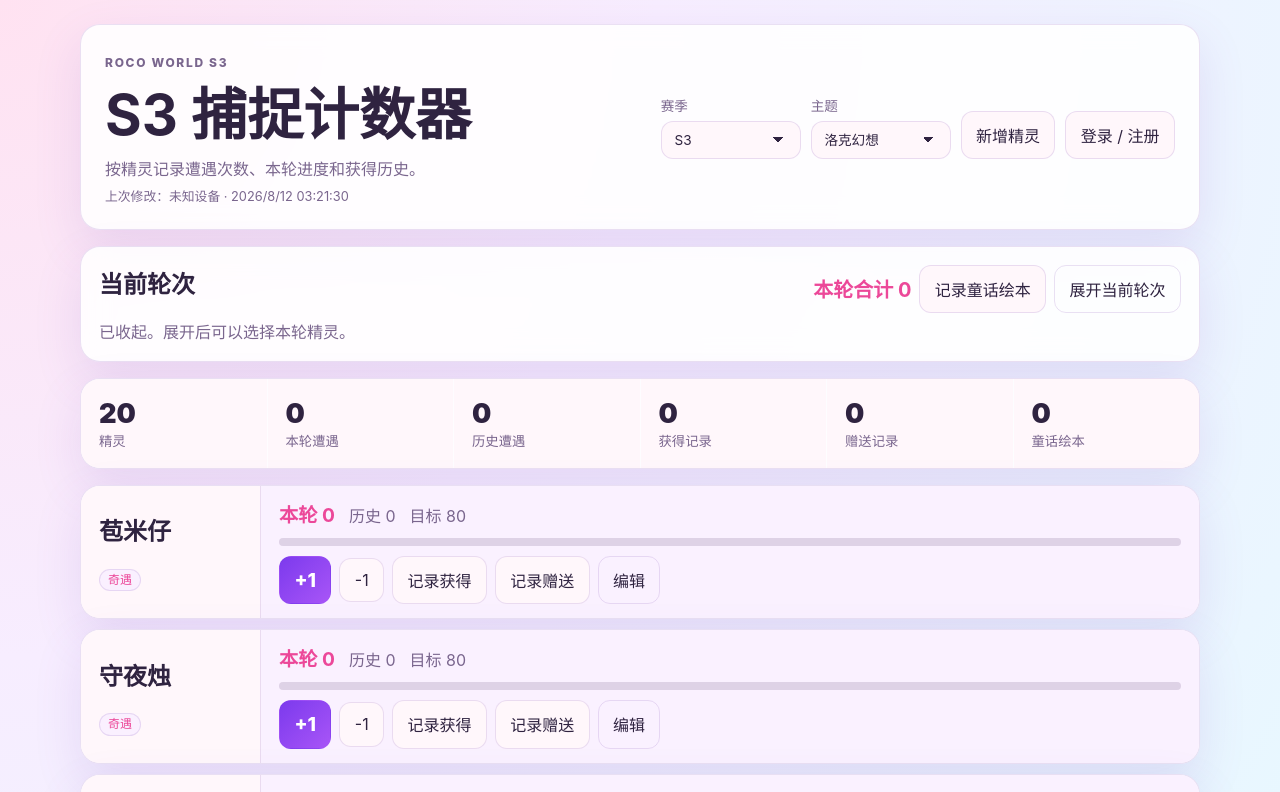
Test: App › switches seasons without saving old-season data into the new key
The width and height of the screenshot is (1280, 792).
Click the button "新增精灵".
click(1008, 135)  # box 961,111 -> 1055,159
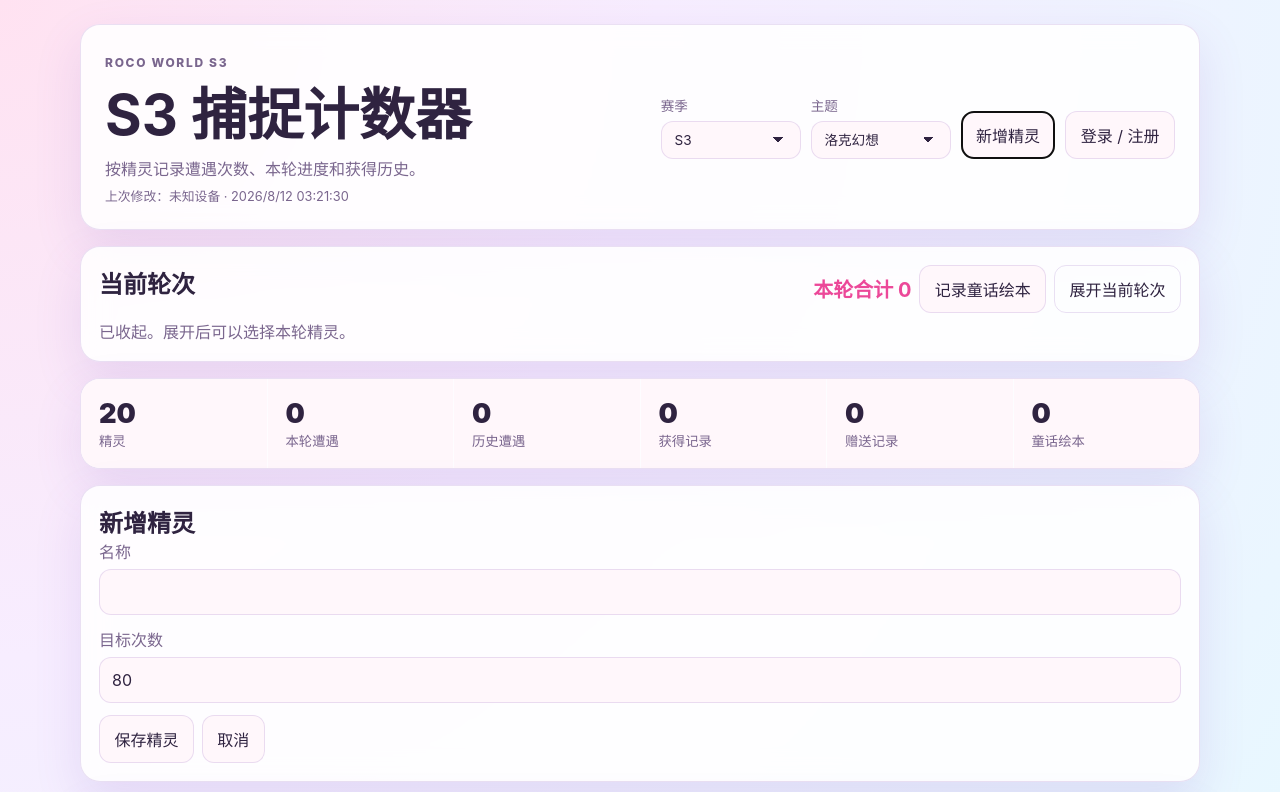
Expected: the field labelled "名称" is shown, 99,569 -> 1181,615
Select "S2" in the dropdown labelled "赛季" at point(731, 140), box 661,120 -> 801,159
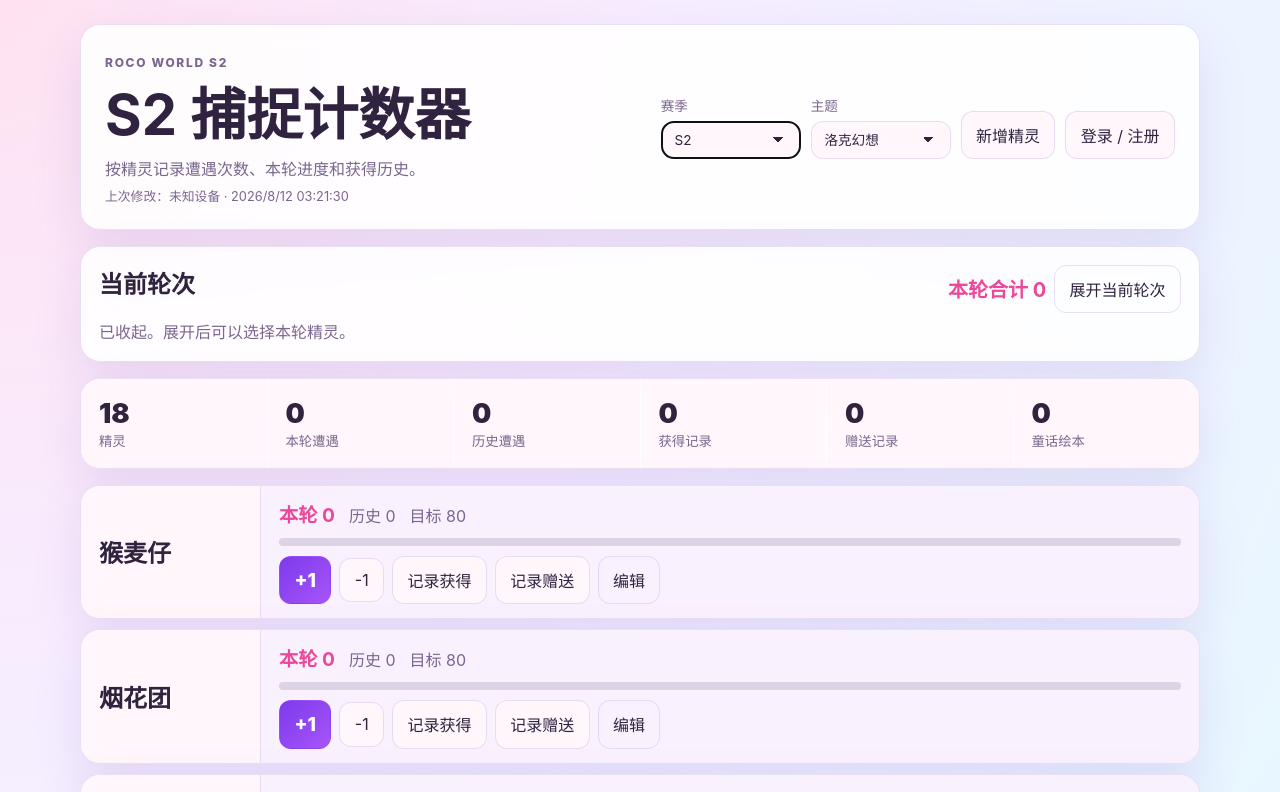
Expected: the label labelled "名称" is gone
Expected: the heading "S2 捕捉计数器" is shown, 105,70 -> 470,151
Expected: the heading "猴麦仔" is shown, 99,539 -> 171,568
